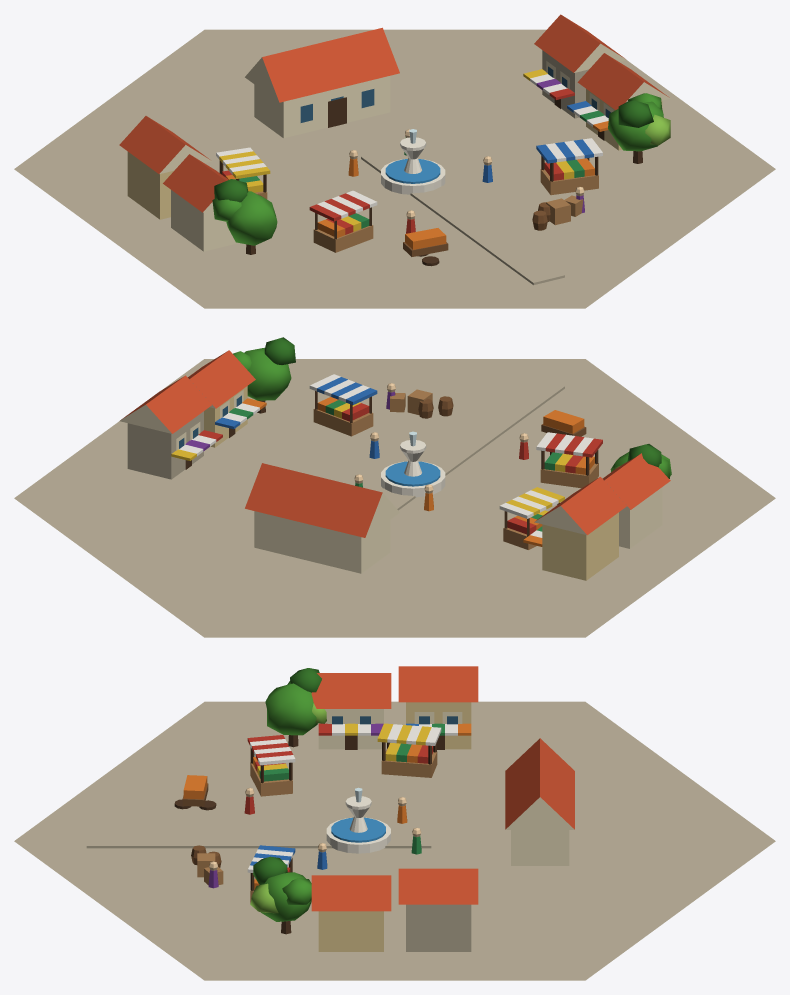
Rendered from district_commercial_hub_1.fbx.
3 views of the same model, one above another, from view 1: azimuth 30°, elevation 25°; view 2: azimuth 150°, elevation 25°; view 3: azimuth 270°, elevation 25° (orthographic).
Parts seen in each view (by area): view 1: district_commercial_hub_1; view 2: district_commercial_hub_1; view 3: district_commercial_hub_1.
Part boxes in pixels (box(x1,y1,x2,y2)): district_commercial_hub_1: box(14, 14, 775, 308); district_commercial_hub_1: box(14, 337, 775, 637); district_commercial_hub_1: box(14, 666, 775, 980).
Size of the model in its own units: 182 by 22.4 by 210.
